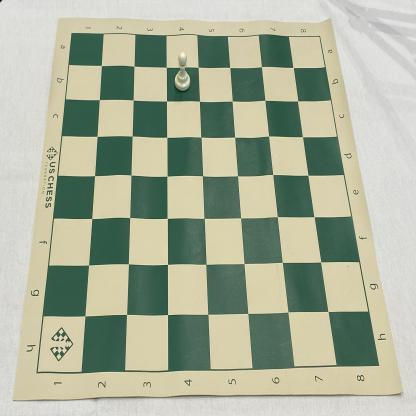white-pawn: (174, 50, 191, 92)
